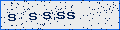s: (8, 13, 16, 21), (29, 13, 37, 21), (43, 12, 51, 19), (57, 12, 65, 19), (67, 12, 75, 19)
